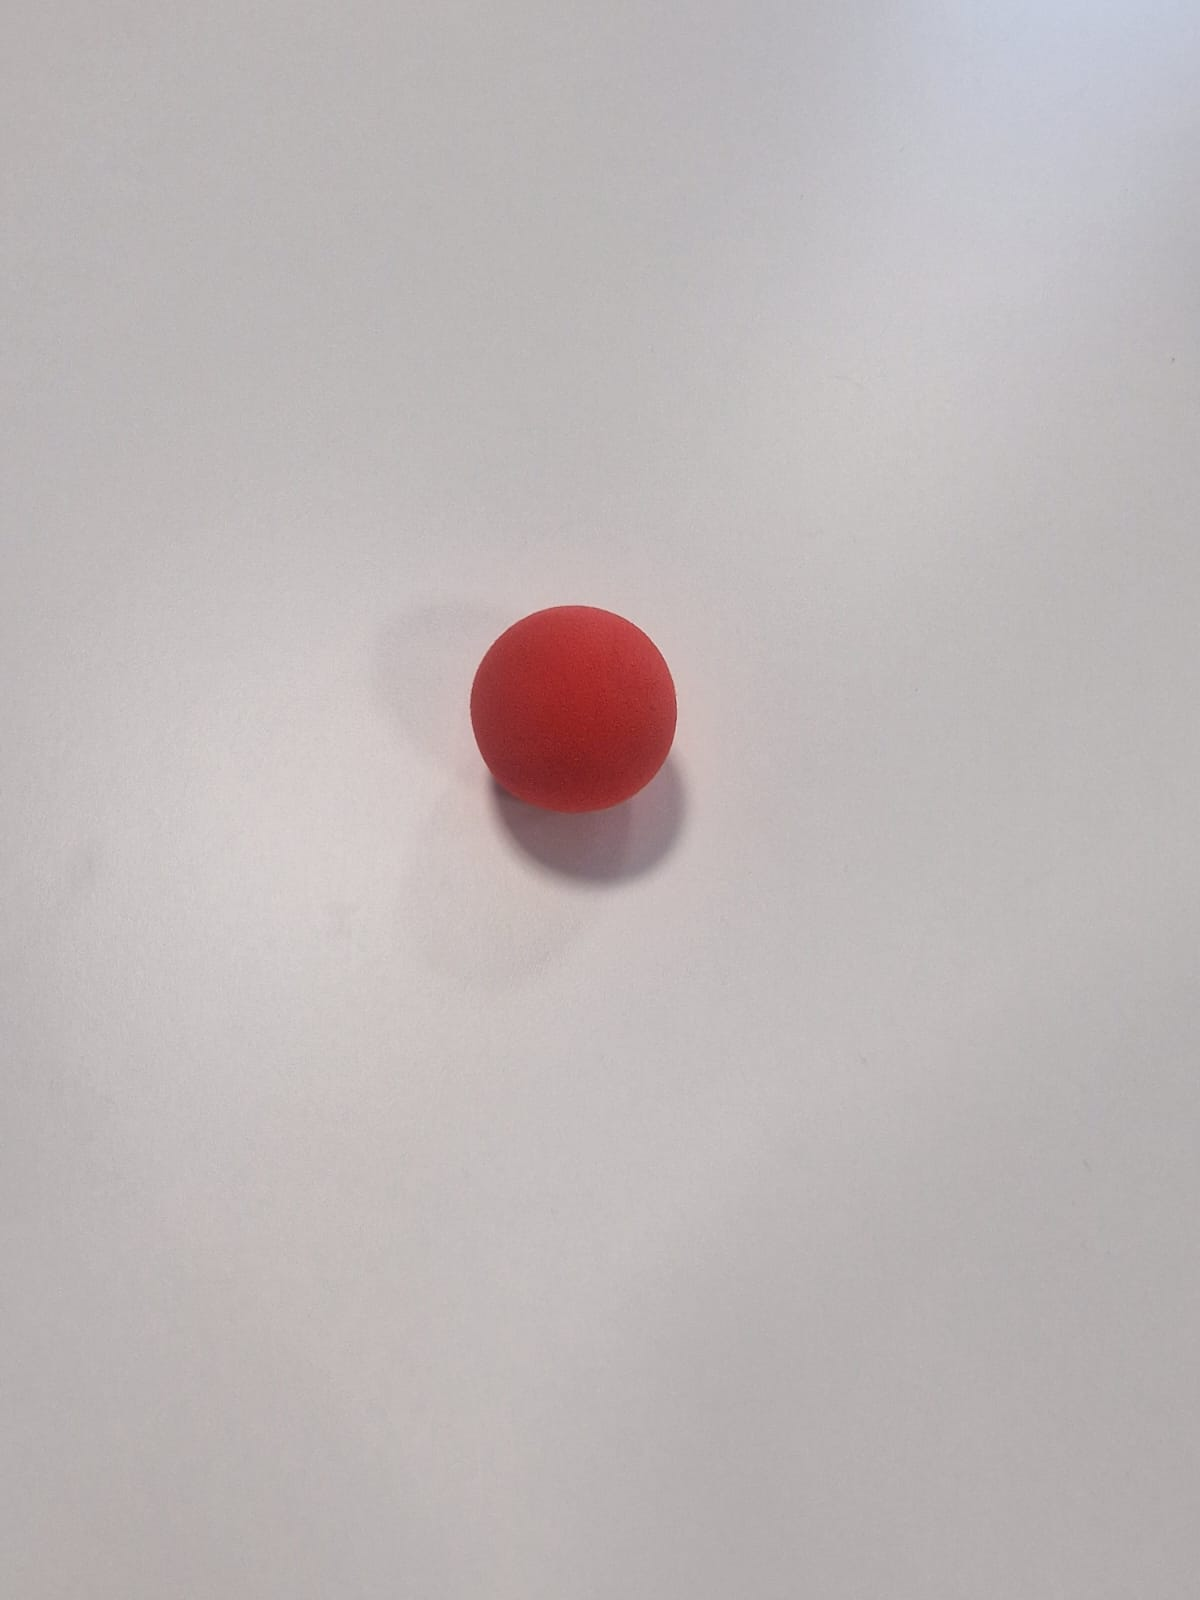bola_cerca: (466, 597, 671, 838)
